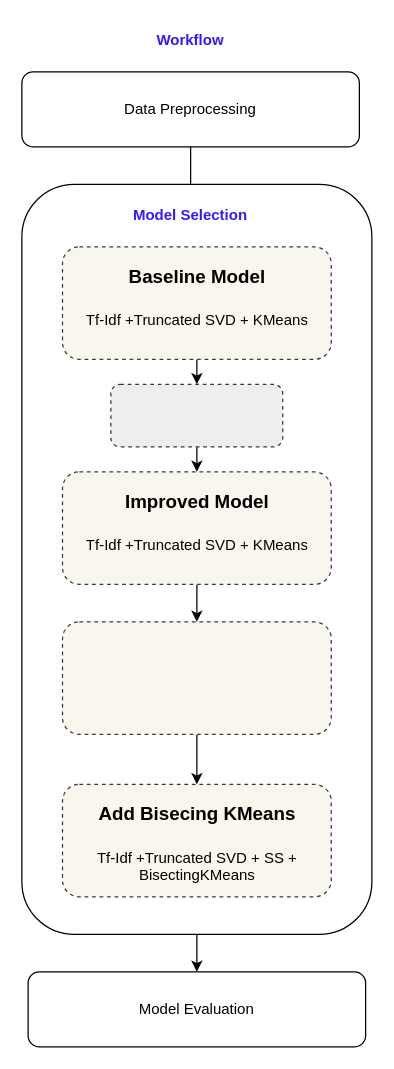
This 394x1069 diagram has some shape labels left out. Here are the shapes that lost their labels. From the top down, the box of each, then its label:
(110, 383, 283, 447): Hyper Parametertuning
(61, 621, 331, 734): Added StandardScaler Tf-Idf +Truncated SVD + SS + KMeans
